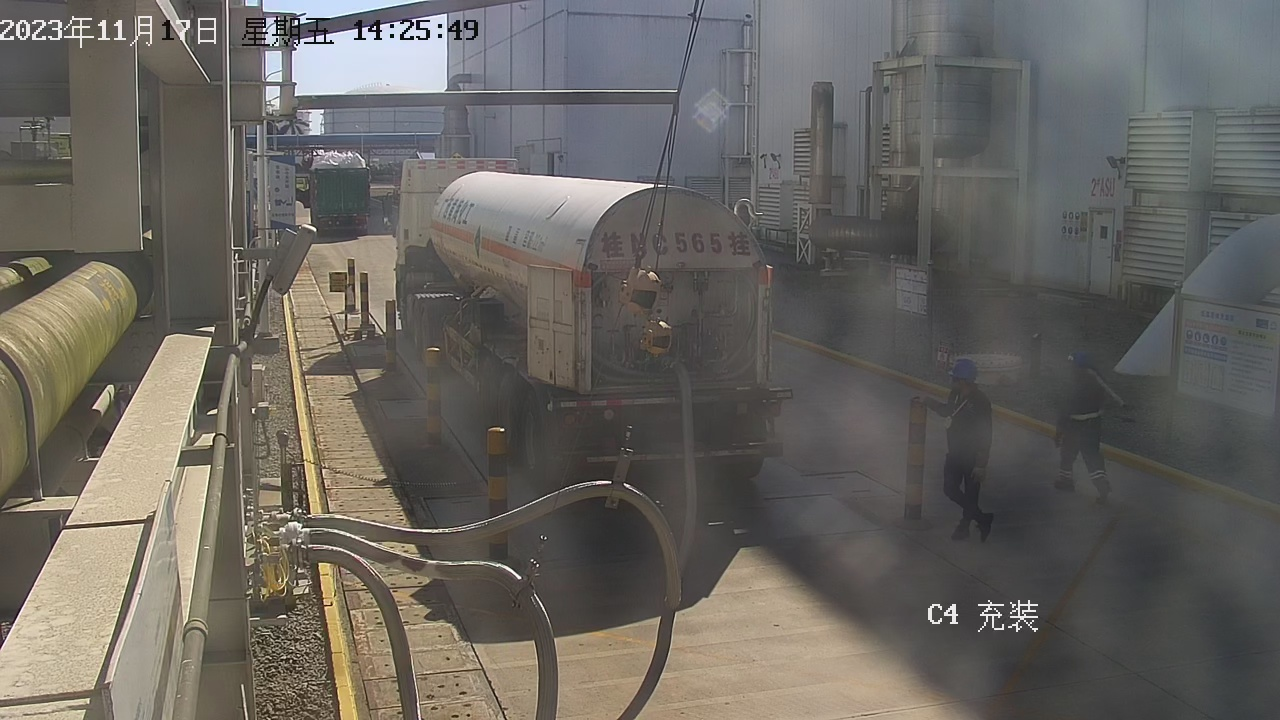Head_with_Helmet: (944, 356, 981, 390), (1061, 347, 1098, 380)
Uniform: (921, 384, 1009, 546), (1050, 372, 1117, 506)
